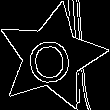O_N: (27, 29, 76, 85)
